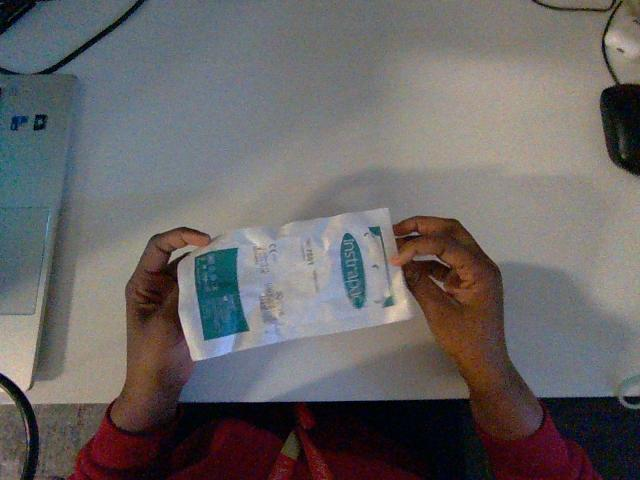gallipot: (178, 209, 411, 359)
